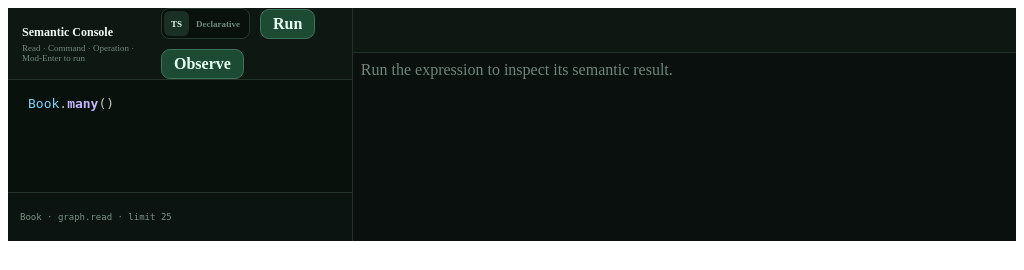
Console query observation › stops while waiting for the first snapshot without writing a late result
Click the button "Observe" at (202, 64), box x1=161 y1=49 x2=244 y2=79
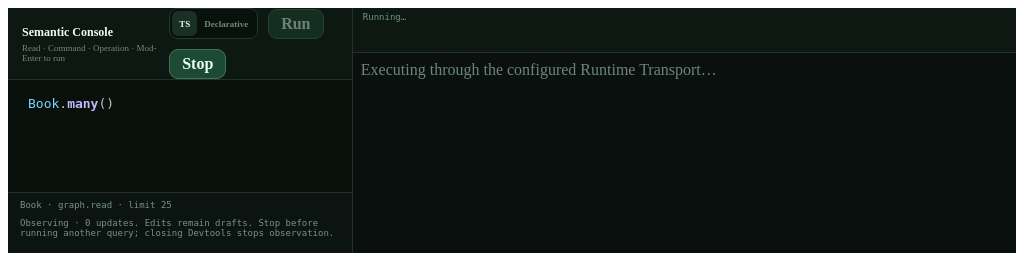
Click the button "Stop" at (198, 64), box x1=169 y1=49 x2=226 y2=79
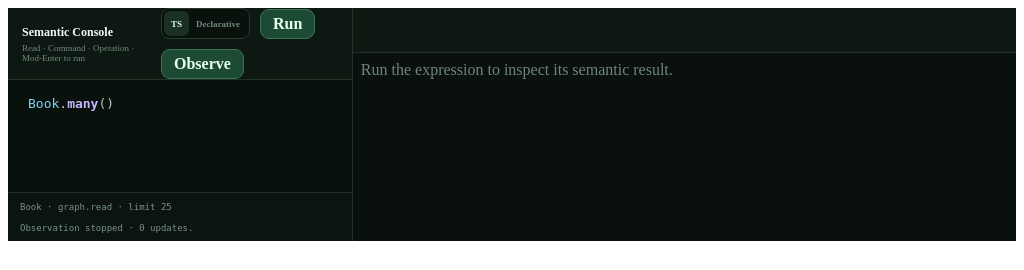
Expected: the button "Run" is enabled, x1=260 y1=8 x2=315 y2=38
